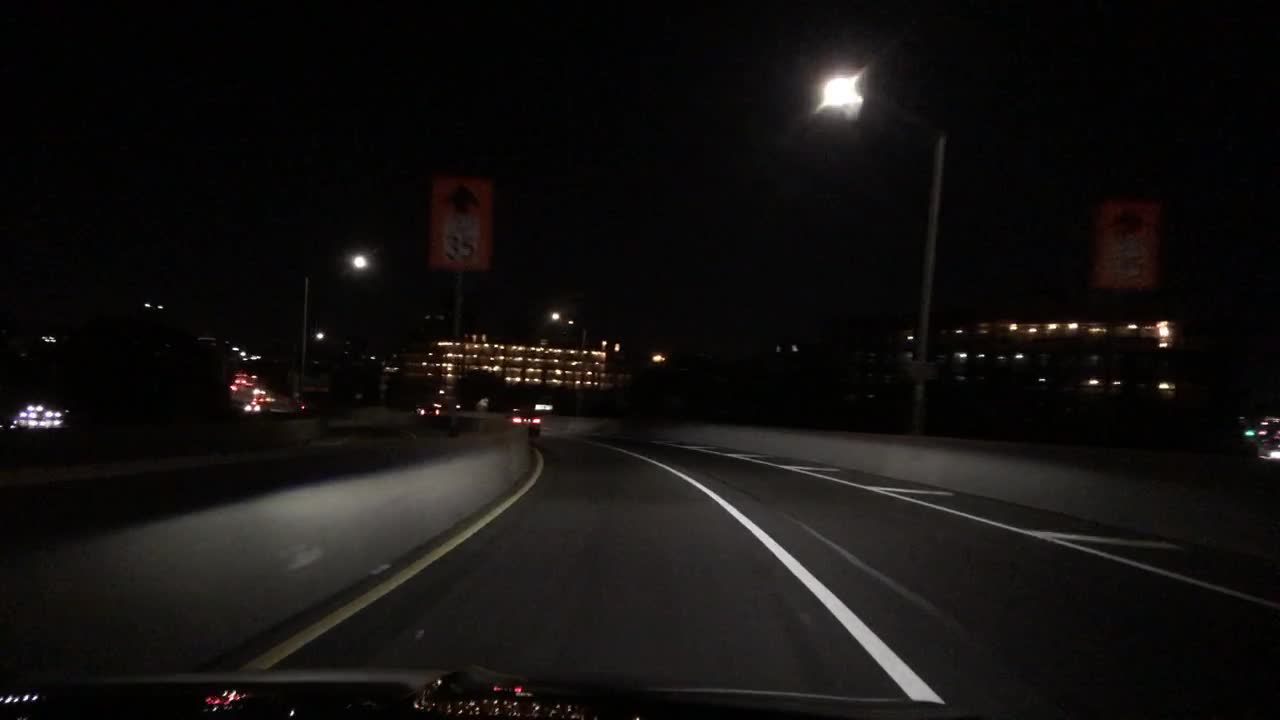car: (503, 408, 544, 433), (410, 402, 445, 418)
traffic sign: (427, 174, 498, 267), (1107, 201, 1168, 285)
